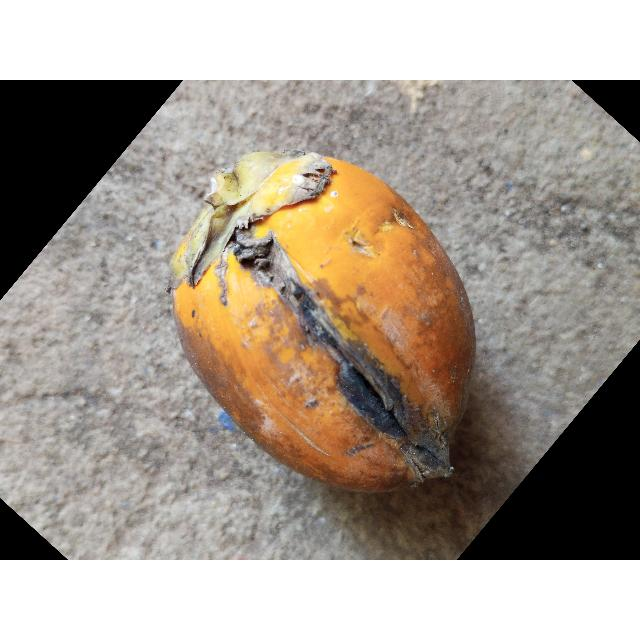damaged: (168, 152, 477, 495)
